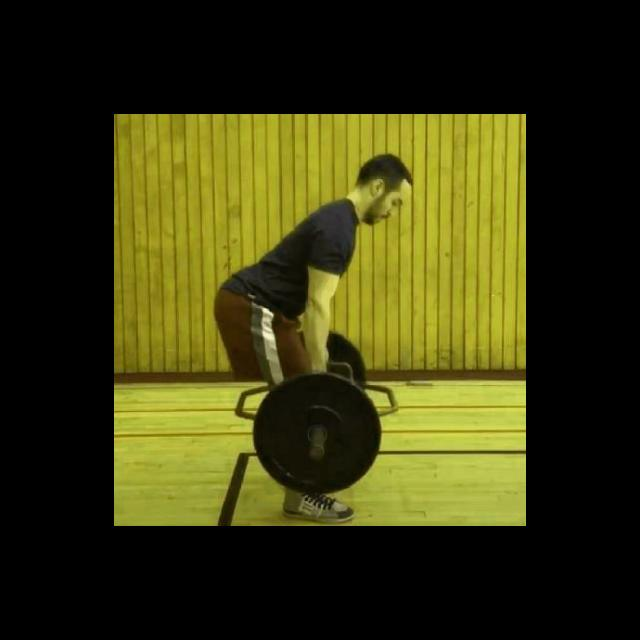barbell: (253, 368, 383, 497)
